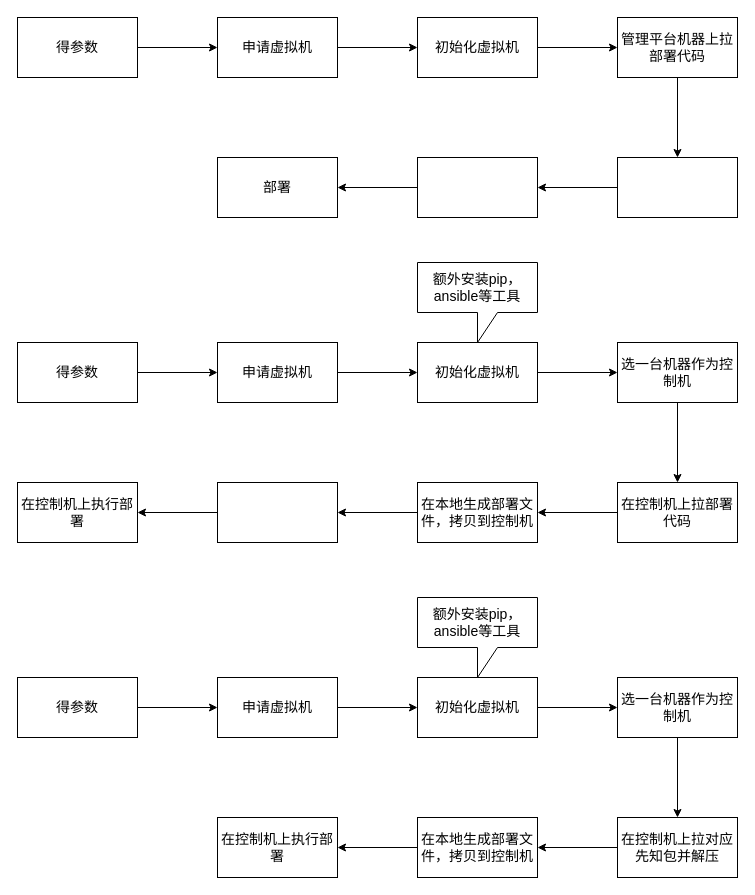
This 755x895 diagram has some shape labels left out. The shapes that lost their labels are listed below. From the top down, each one's centre as x and y in pixels, then its label:
At (477,187): "拉先知包到管理机器".
At (677,187): "生成部署配置文件（包括hadoop）".
At (277,512): "在控制机上拉先知包".
